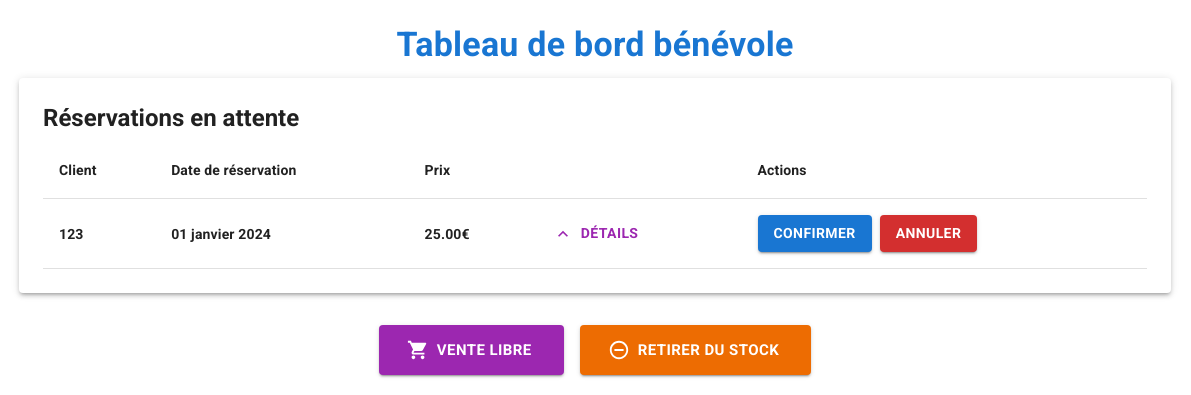
Test: VolunteerHomePage › handles cancel reservation correctly
Click the button "Annuler": click(928, 234) [880,215,977,252]
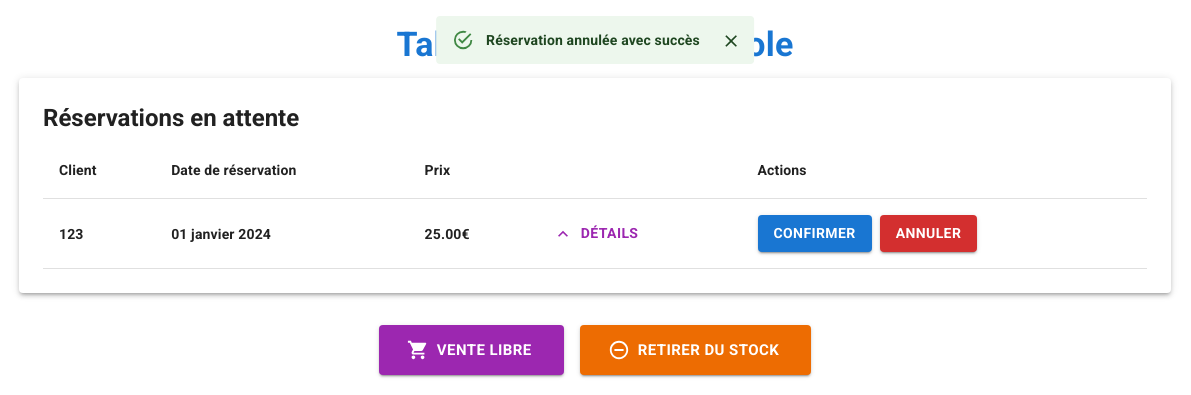
Expected: the text "Réservation annulée avec succès" is shown, [486,32,700,48]
